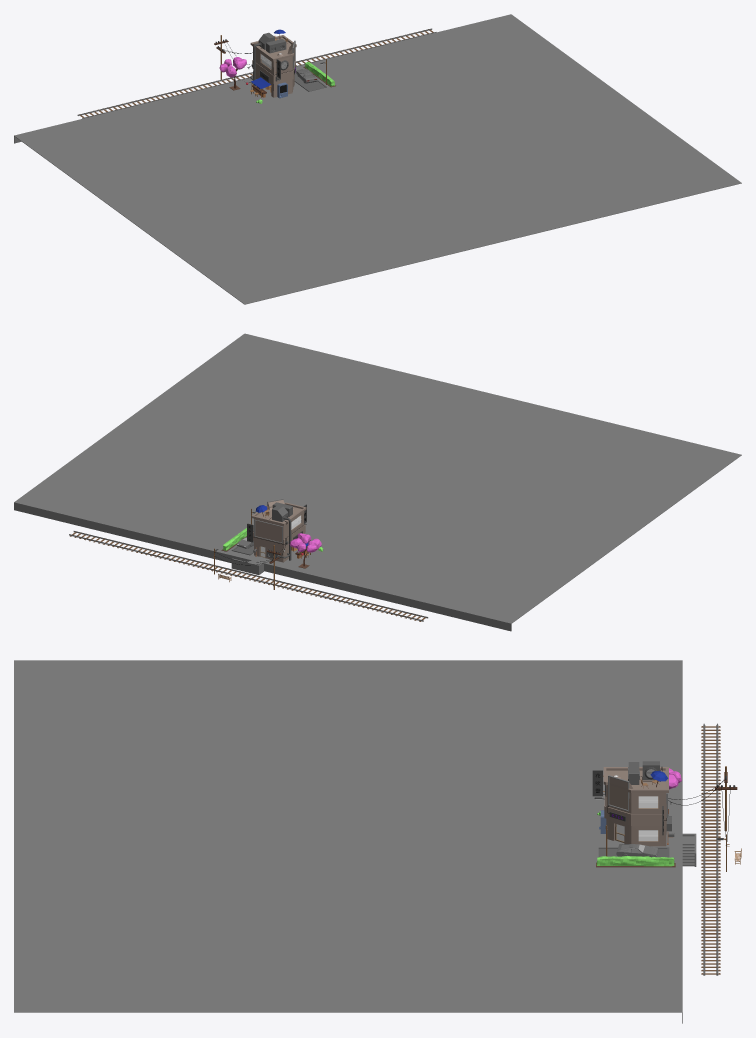
The model's file is portfolio-finished.glb.
3 views of the same model, one above another, from view 1: azimuth 30°, elevation 25°; view 2: azimuth 150°, elevation 25°; view 3: azimuth 270°, elevation 25° (orthographic). The views are drawn at different scales.
Parts seen in each view (by area): view 1: Floor, Building, FloorItems; view 2: Floor, Building, FloorItems; view 3: Floor, Building, FloorItems.
Part boxes in pixels (box(x1,y1,x2,y2)): Floor: box(14, 14, 741, 304); Building: box(214, 32, 296, 97); FloorItems: box(77, 28, 436, 118); Floor: box(14, 333, 741, 631); Building: box(213, 498, 310, 589); FloorItems: box(69, 508, 428, 621); Floor: box(14, 660, 696, 1023); Building: box(592, 761, 737, 871); FloorItems: box(596, 723, 741, 975).
Size of the model in its own units: 150 by 16.69 by 131.
